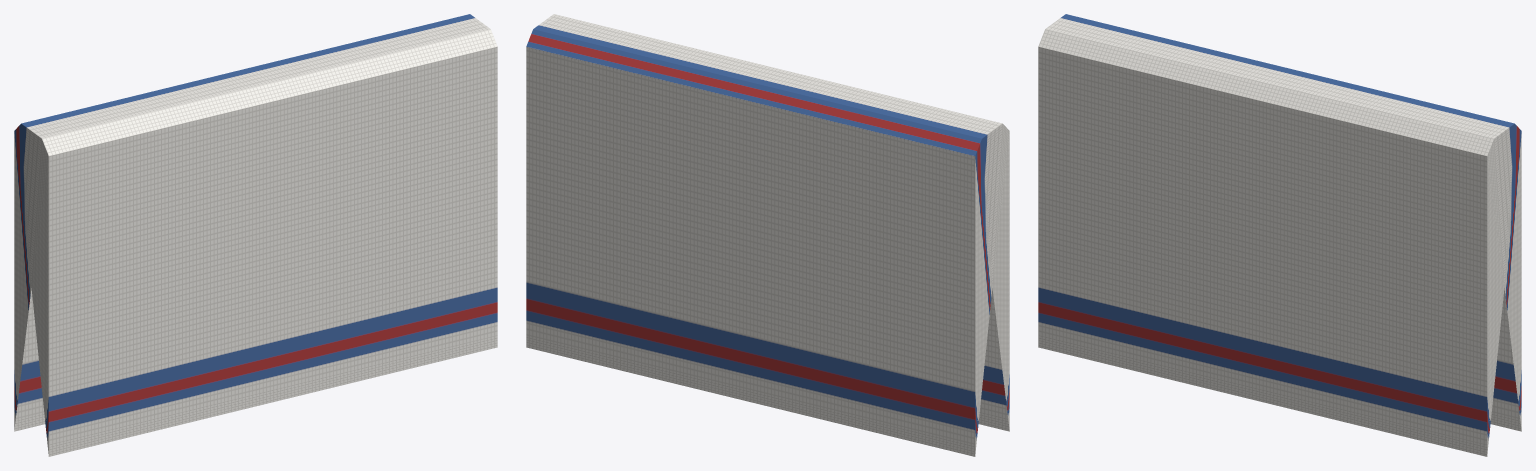
Rendered from hand_towel.obj.
3 renders of one model, left to right at view 1: azimuth 30°, elevation 25°; view 2: azimuth 150°, elevation 25°; view 3: azimuth 330°, elevation 25°, orthographic.
Parts seen in each view (by area): view 1: hand_towel; view 2: hand_towel; view 3: hand_towel.
Part boxes in pixels (x1,y1,x2,y2): hand_towel: (14,14,497,456); hand_towel: (526,14,1009,456); hand_towel: (1038,14,1521,456).
Bounding box in the file's own units: 0.3 × 0.2 × 0.04.
1 material, 1 textured.
